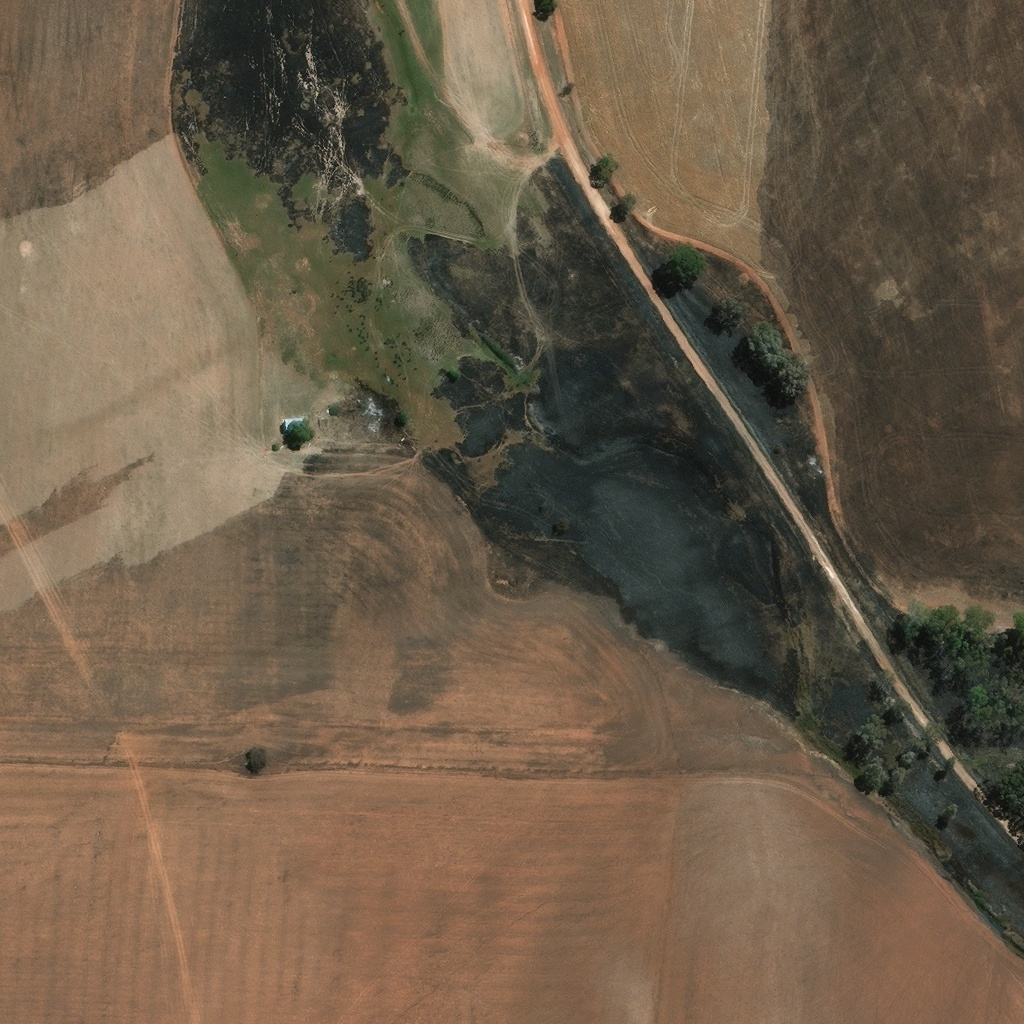4 un-classified: (284, 416, 310, 429)
